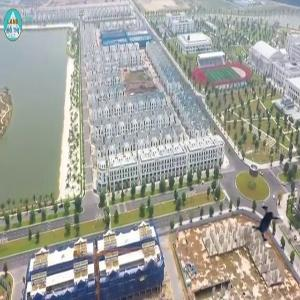drone: (242, 197, 297, 252)
